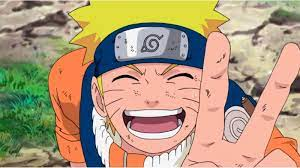Naruto: (89, 2, 211, 154)
